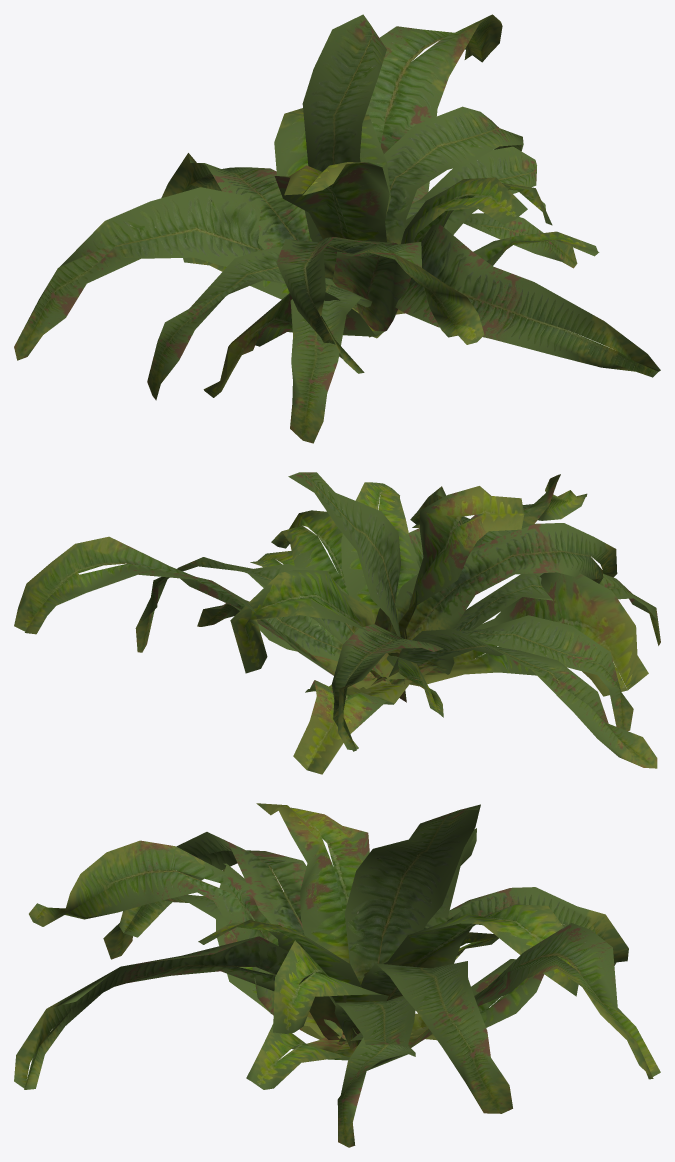
File: fern.glb
The picture shows the model from 3 angles, top to bottom: view 1: azimuth 30°, elevation 25°; view 2: azimuth 150°, elevation 25°; view 3: azimuth 270°, elevation 25°; orthographic projection. The views are drawn at different scales.
Parts seen in each view (by area): view 1: fern_02_b; view 2: fern_02_b; view 3: fern_02_b.
Part boxes in pixels (<box>): fern_02_b: <box>14,14,660,443</box>; fern_02_b: <box>14,472,660,774</box>; fern_02_b: <box>14,803,660,1147</box>.
Bounding box in the file's own units: 0.7752 × 0.3337 × 0.701.
1 material, 1 textured.
